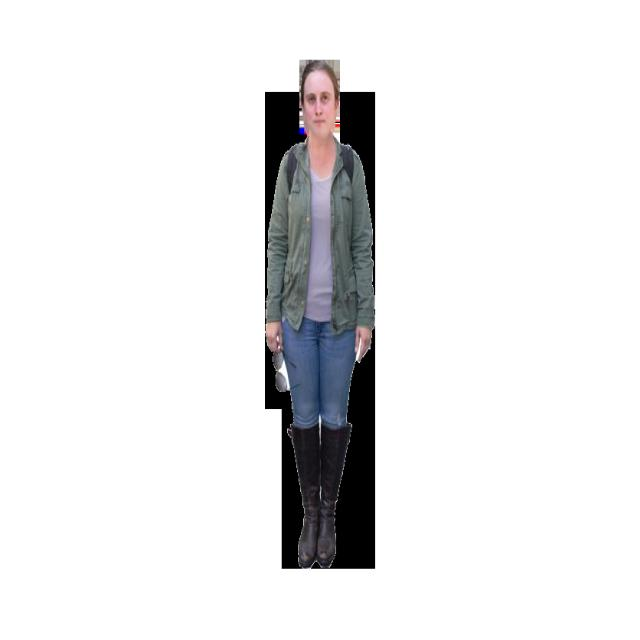jovem: (259, 49, 379, 568)
